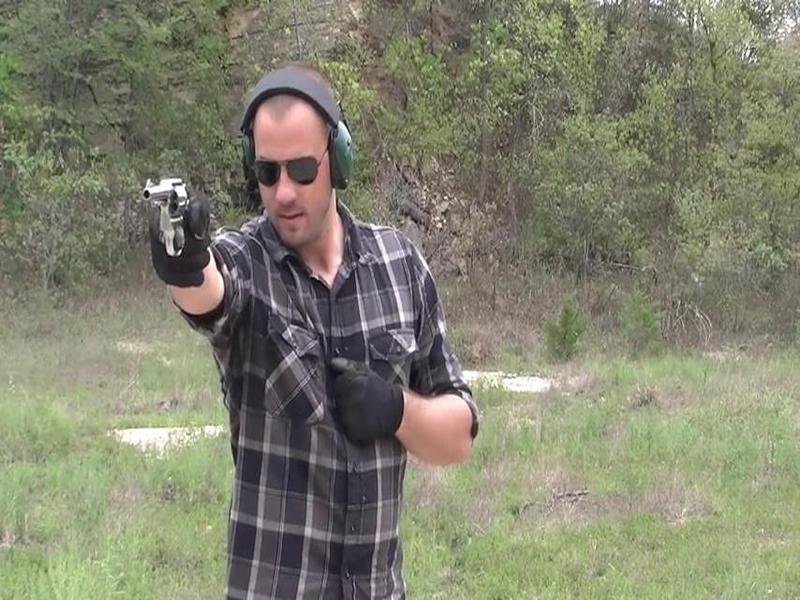Revolver: (134, 167, 200, 269)
